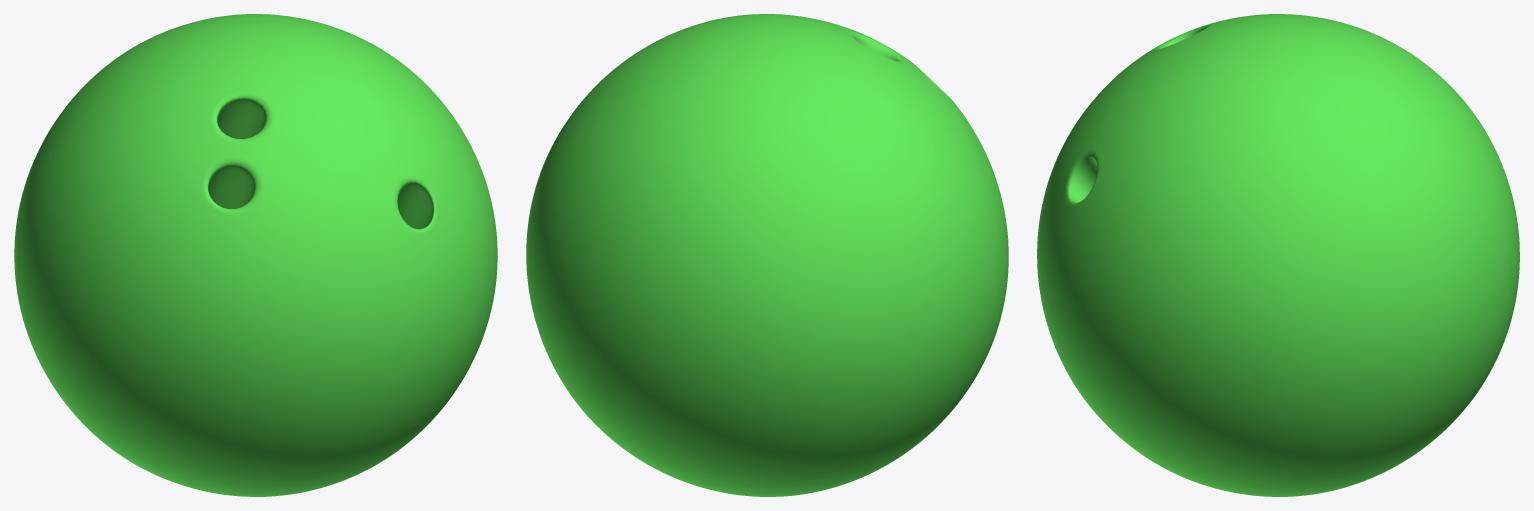
Rendered from Bola Bowling.fbx.
3 views of the same model, side by side, from view 1: azimuth 30°, elevation 25°; view 2: azimuth 150°, elevation 25°; view 3: azimuth 270°, elevation 25° (orthographic).
Parts seen in each view (by area): view 1: Bowling Ball; view 2: Bowling Ball; view 3: Bowling Ball.
Boxes of the visible parts, box(x1,y1,x2,y2) form: Bowling Ball: box(14, 14, 497, 496); Bowling Ball: box(526, 14, 1008, 496); Bowling Ball: box(1037, 14, 1519, 496).
Size of the model in its own units: 199 by 199 by 199.
